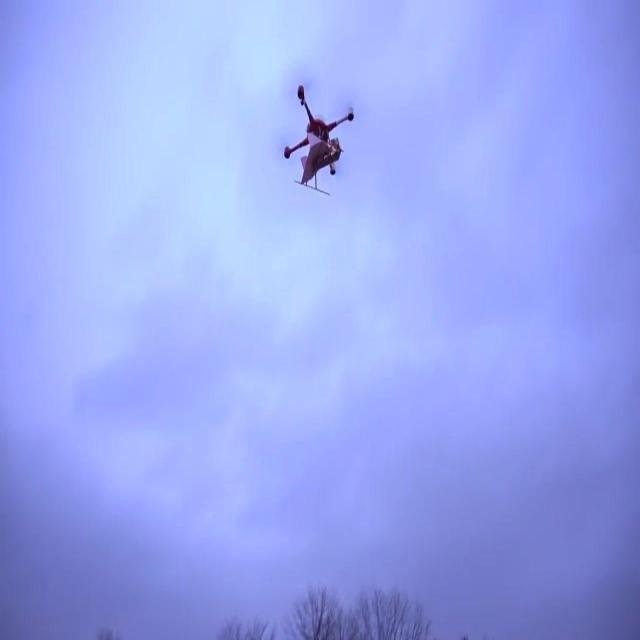drone: (282, 80, 356, 198)
